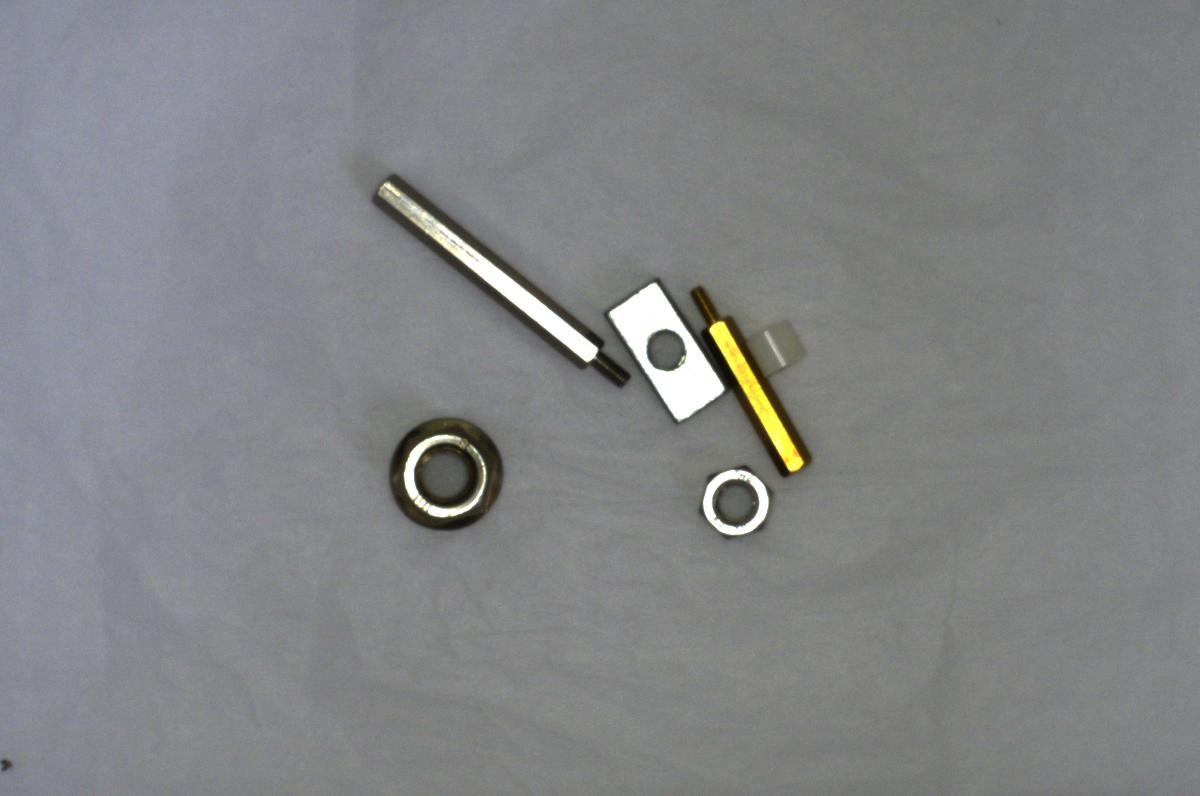Flange nut: (378, 409, 515, 541)
Hexagon nut: (680, 459, 784, 549)
Hexagon pillar: (684, 268, 814, 475)
Hexagonal steel column: (367, 169, 626, 398)
Plastic cushion pillar: (747, 313, 812, 378)
Rectangular nut: (602, 270, 731, 428)
